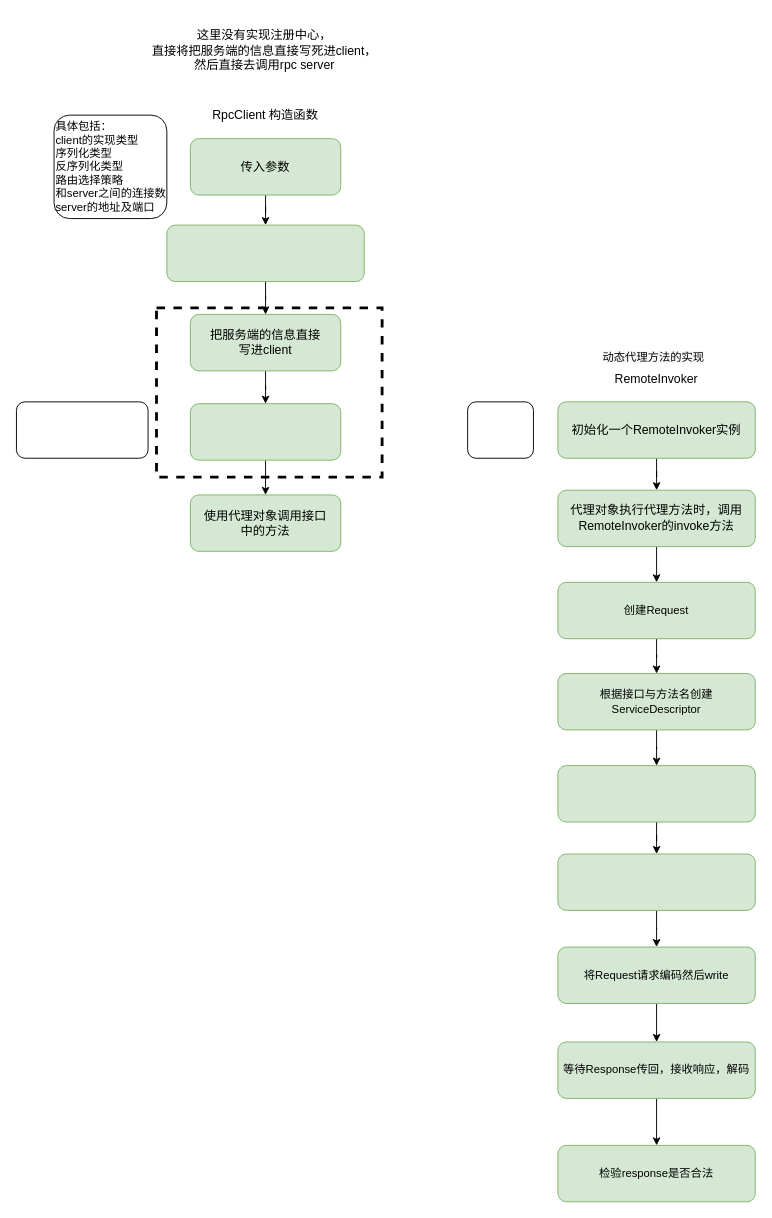
This 772x1218 diagram has some shape labels left out. The shapes that lost their labels are listed below. From the top down, each one's box as (x1, y1, x2, y2) in pixels, then its label:
(166, 224, 364, 282): 路由选择器初始化 建立连接池，每个Server几个连接
(16, 401, 148, 458): 加载代理对象的类加载器 动态代理需要实现的接口 动态代理方法的实现
(189, 403, 341, 460): 动态代理 Proxy.newProxyInstance
(467, 401, 533, 458): 接口 编码器 解码器 连接池
(557, 765, 755, 822): Request封装ServiceDescriptor与 请求的参数
(557, 853, 755, 910): 通过invokeRemote处理Request请求
